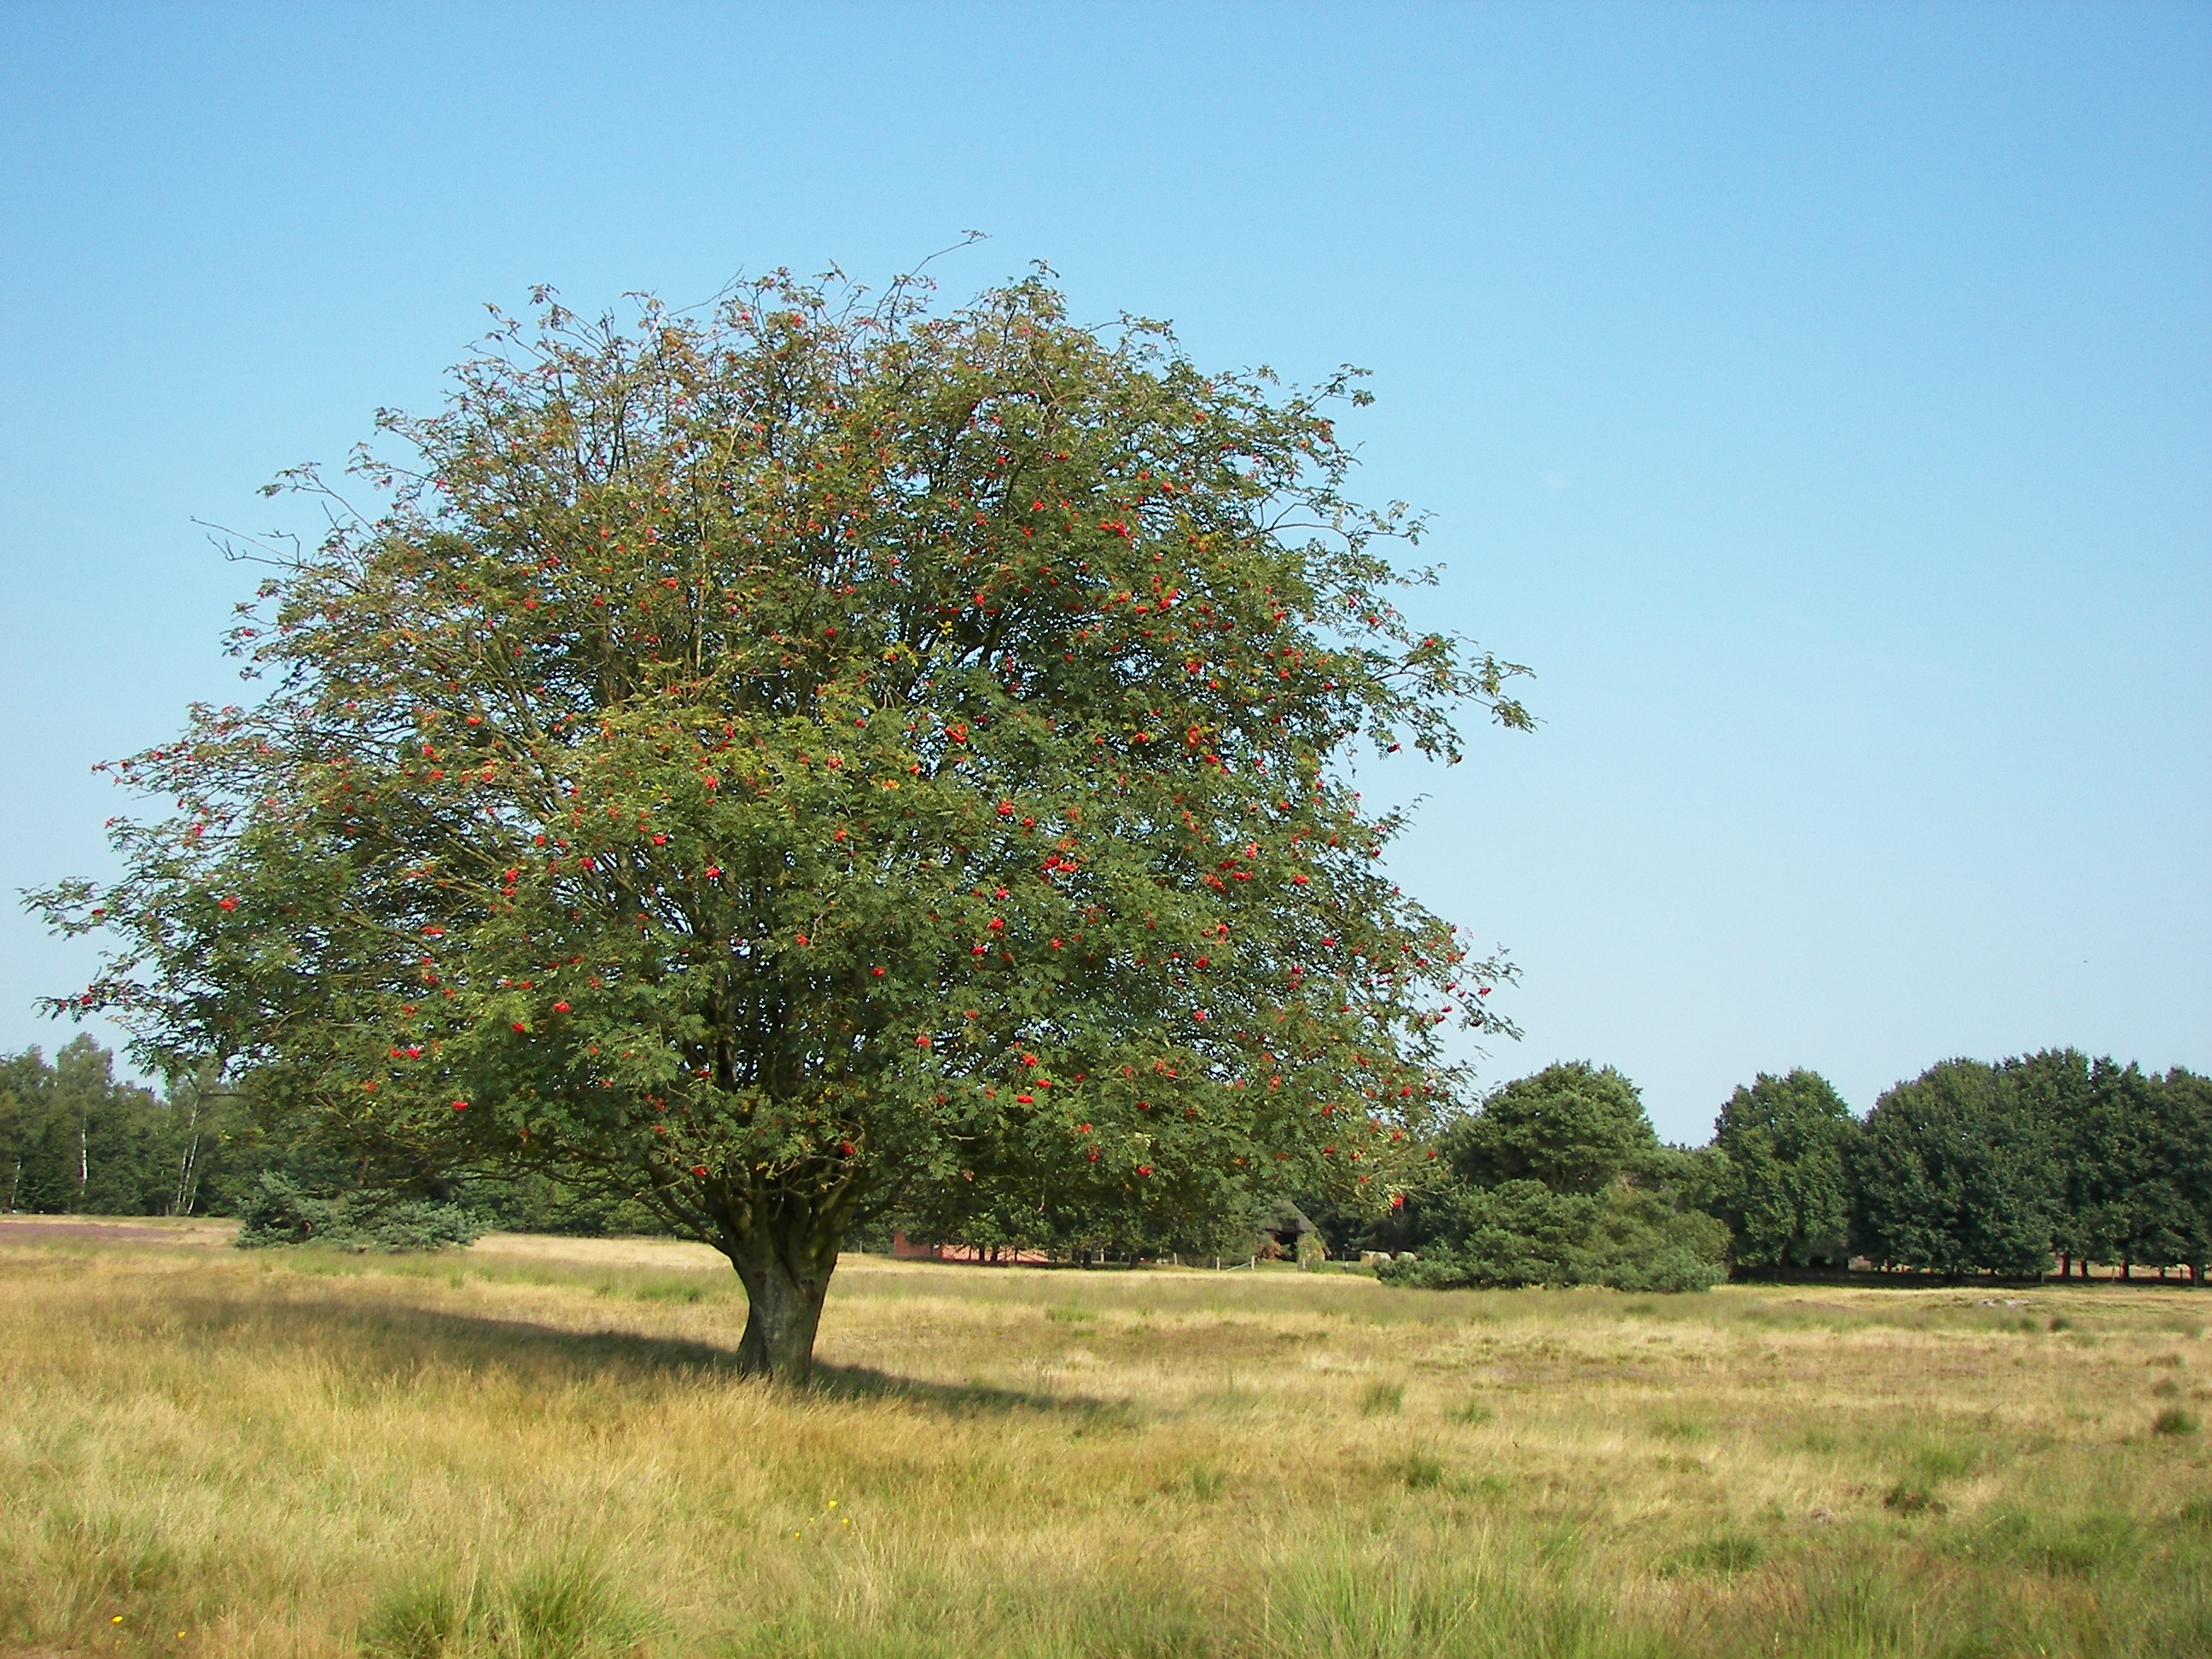tree: (16, 220, 1543, 1396)
